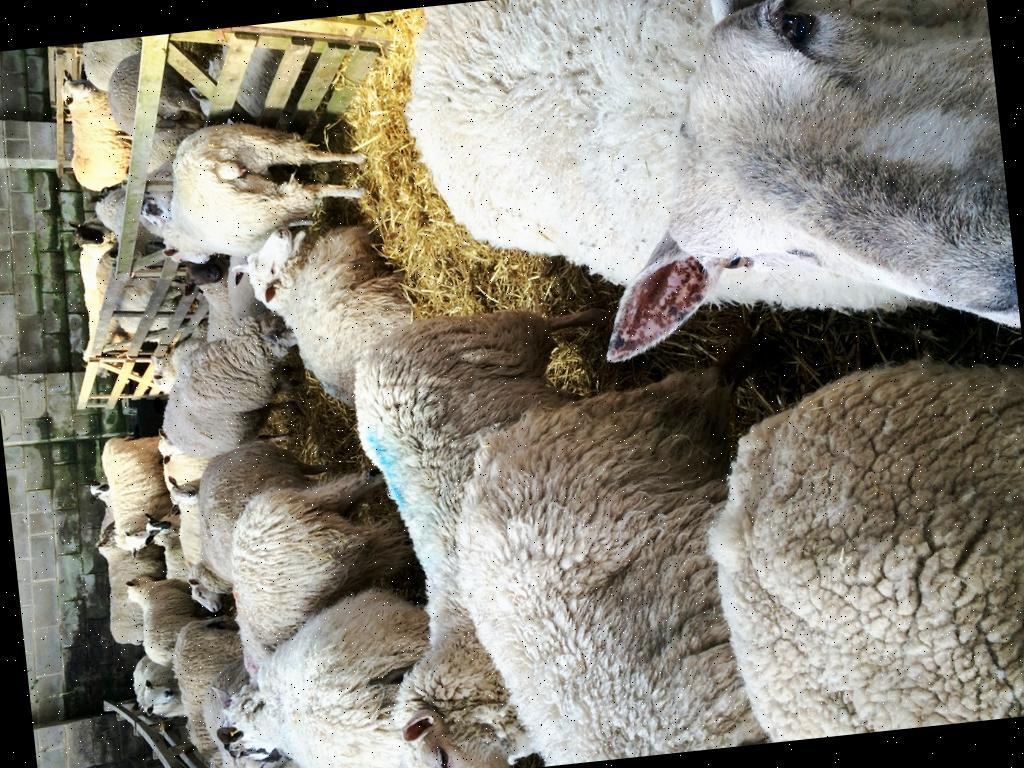Sheep: (444, 364, 777, 767), (346, 306, 570, 576), (217, 585, 455, 768), (176, 428, 378, 604), (248, 212, 428, 402), (154, 116, 344, 270), (148, 303, 312, 462), (60, 50, 202, 186), (168, 618, 258, 766), (96, 430, 174, 556), (200, 40, 296, 126), (120, 568, 202, 664), (178, 256, 252, 332), (90, 180, 148, 252), (154, 314, 213, 375), (86, 242, 136, 302), (130, 652, 176, 714)
